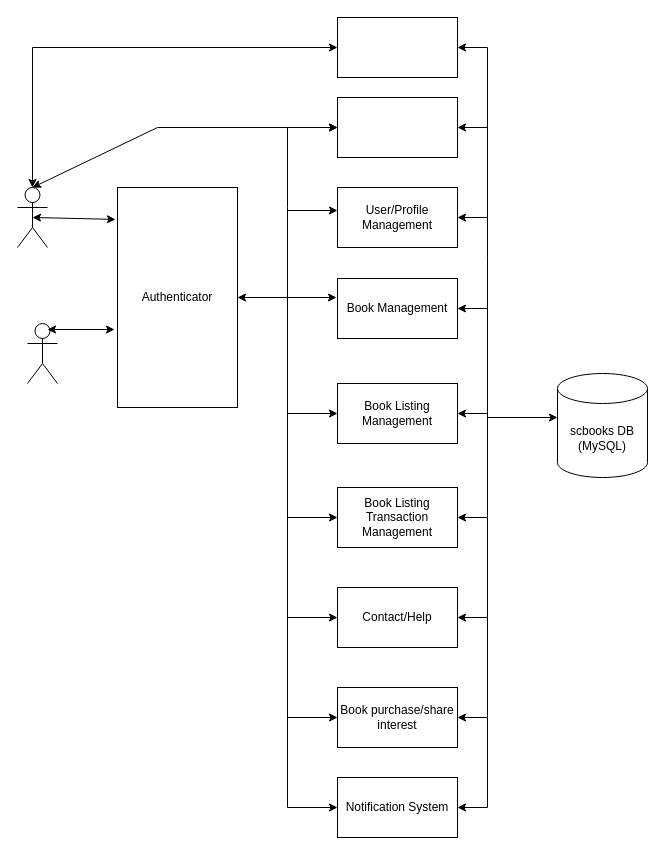
Some shapes in this 665 by 855 pixel diagram are drawn without their labels. Each missing label, with the centre of its shape:
"Admin" belongs at (x=42, y=353).
"Login" belongs at (x=397, y=127).
"Register" belongs at (x=397, y=47).
"User" belongs at (x=32, y=217).
